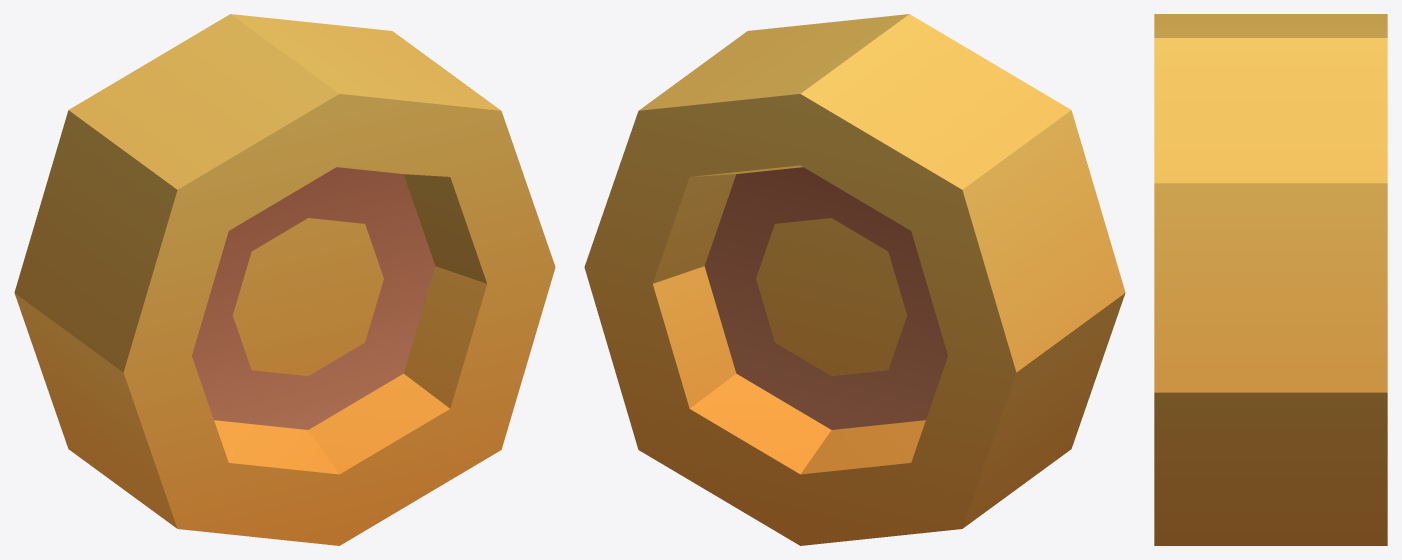
The model's file is coin-gold.fbx.
3 renders of one model, left to right at view 1: azimuth 30°, elevation 25°; view 2: azimuth 150°, elevation 25°; view 3: azimuth 270°, elevation 25°, orthographic. The views are drawn at different scales.
Visible parts, largest first — view 1: coin-gold; view 2: coin-gold; view 3: coin-gold.
Part boxes in pixels (x1=…): coin-gold: x1=14, y1=14, x2=555, y2=545; coin-gold: x1=584, y1=14, x2=1125, y2=545; coin-gold: x1=1154, y1=14, x2=1387, y2=545.
Size of the model in its own units: 40 by 40 by 17.5.
